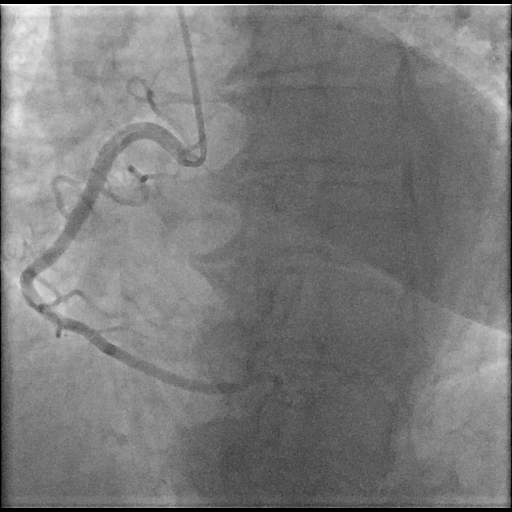RCA: (19, 121, 283, 394)
catherter: (174, 5, 207, 167)
